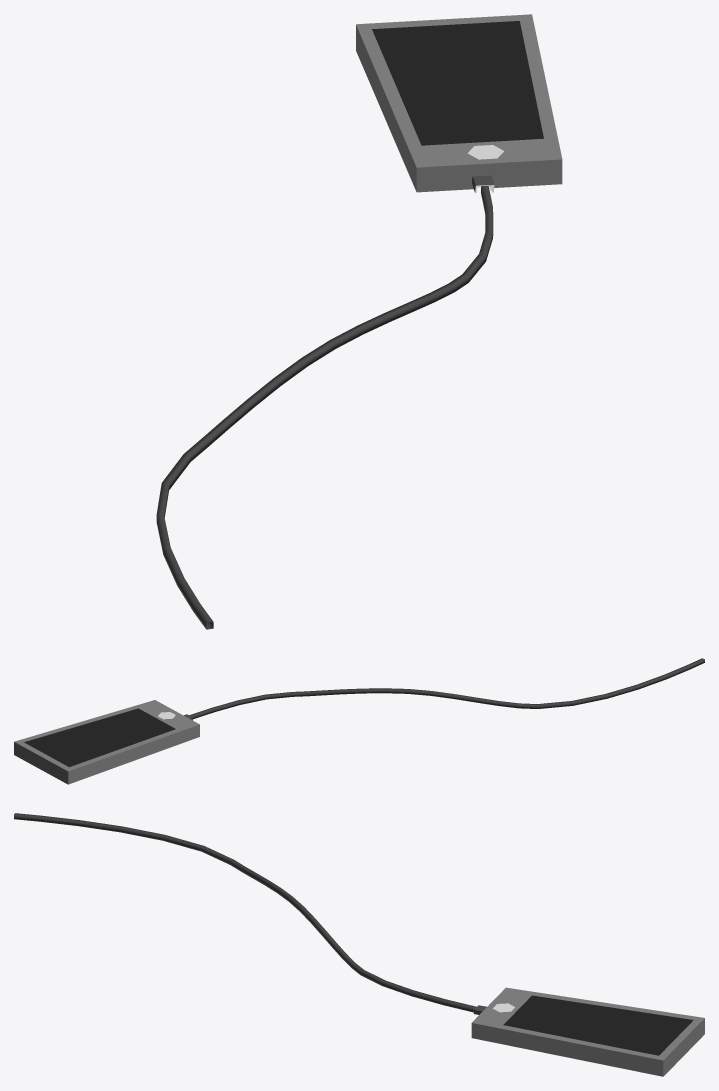
Rendered from CelulareCabo.fbx.
3 views of the same model, one above another, from view 1: azimuth 30°, elevation 25°; view 2: azimuth 150°, elevation 25°; view 3: azimuth 270°, elevation 25° (orthographic). The views are drawn at different scales.
Visible parts, largest first — view 1: Cube.005, BezierCurve; view 2: Cube.005, BezierCurve; view 3: Cube.005, BezierCurve.
Part boxes in pixels (left/top/right/bottom): Cube.005: left=356, top=14, right=562, bottom=192; BezierCurve: left=156, top=175, right=494, bottom=629; Cube.005: left=14, top=700, right=199, bottom=784; BezierCurve: left=184, top=658, right=704, bottom=720; Cube.005: left=471, top=987, right=704, bottom=1076; BezierCurve: left=14, top=813, right=486, bottom=1014.
Bounding box in the file's own units: 185 × 7.36 × 211.
